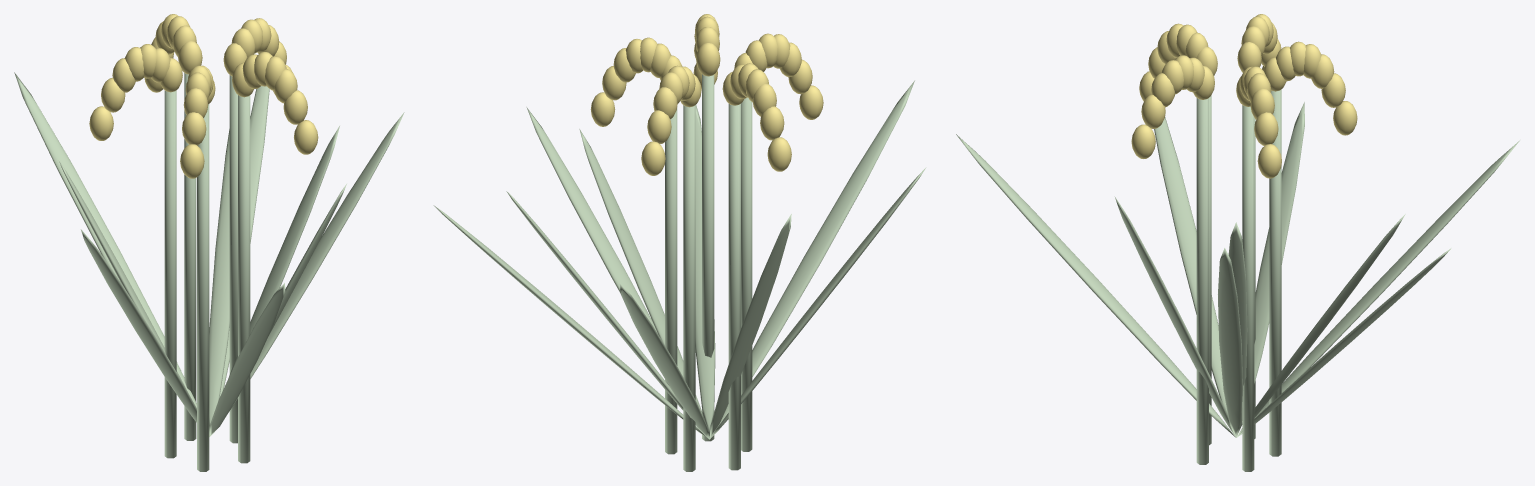
File: VCrop_Rice_5.fbx
3 renders of one model, left to right at view 1: azimuth 30°, elevation 25°; view 2: azimuth 150°, elevation 25°; view 3: azimuth 270°, elevation 25°, orthographic.
Parts seen in each view (by area): view 1: VCrop_Rice_5; view 2: VCrop_Rice_5; view 3: VCrop_Rice_5.
Boxes of the visible parts, left/top/right/bottom form: VCrop_Rice_5: left=14, top=14, right=404, bottom=471; VCrop_Rice_5: left=433, top=14, right=926, bottom=471; VCrop_Rice_5: left=956, top=14, right=1519, bottom=471.
Size of the model in its own units: 0.4791 by 0.5208 by 0.6482.
